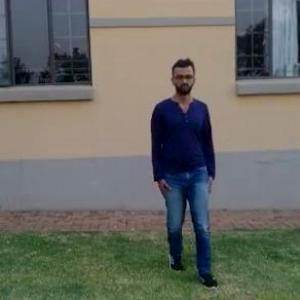follow: (150, 60, 213, 274)
